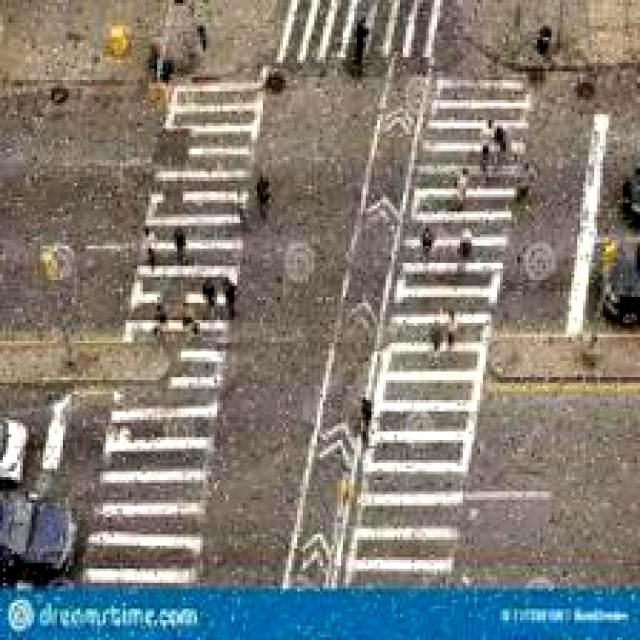crosswalk: (339, 55, 542, 607), (85, 55, 268, 607)
